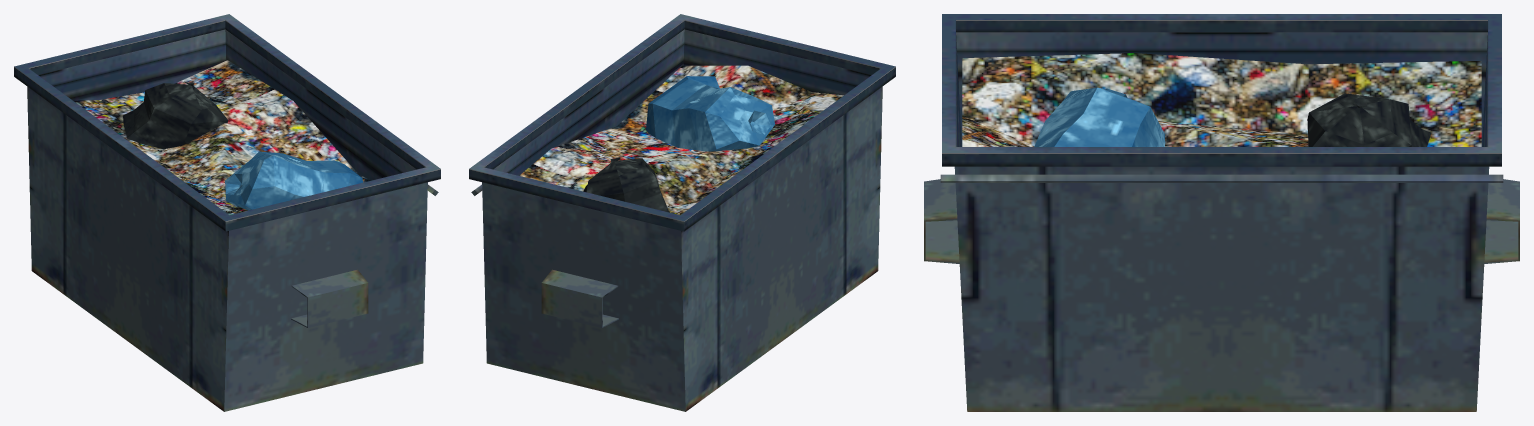
Rendered from Urban_DumpsterFullNoLidBlue_Model.fbx.
3 renders of one model, left to right at view 1: azimuth 30°, elevation 25°; view 2: azimuth 150°, elevation 25°; view 3: azimuth 270°, elevation 25°, orthographic. The views are drawn at different scales.
Parts seen in each view (by area): view 1: Urban_DumpsterFullNoLidBlue_Mesh; view 2: Urban_DumpsterFullNoLidBlue_Mesh; view 3: Urban_DumpsterFullNoLidBlue_Mesh.
Boxes of the visible parts, x1,y1,x2,y2 form: Urban_DumpsterFullNoLidBlue_Mesh: [14, 14, 440, 411]; Urban_DumpsterFullNoLidBlue_Mesh: [469, 14, 895, 411]; Urban_DumpsterFullNoLidBlue_Mesh: [924, 14, 1519, 411].
Size of the model in its own units: 2.03 by 1.8 by 3.67.
